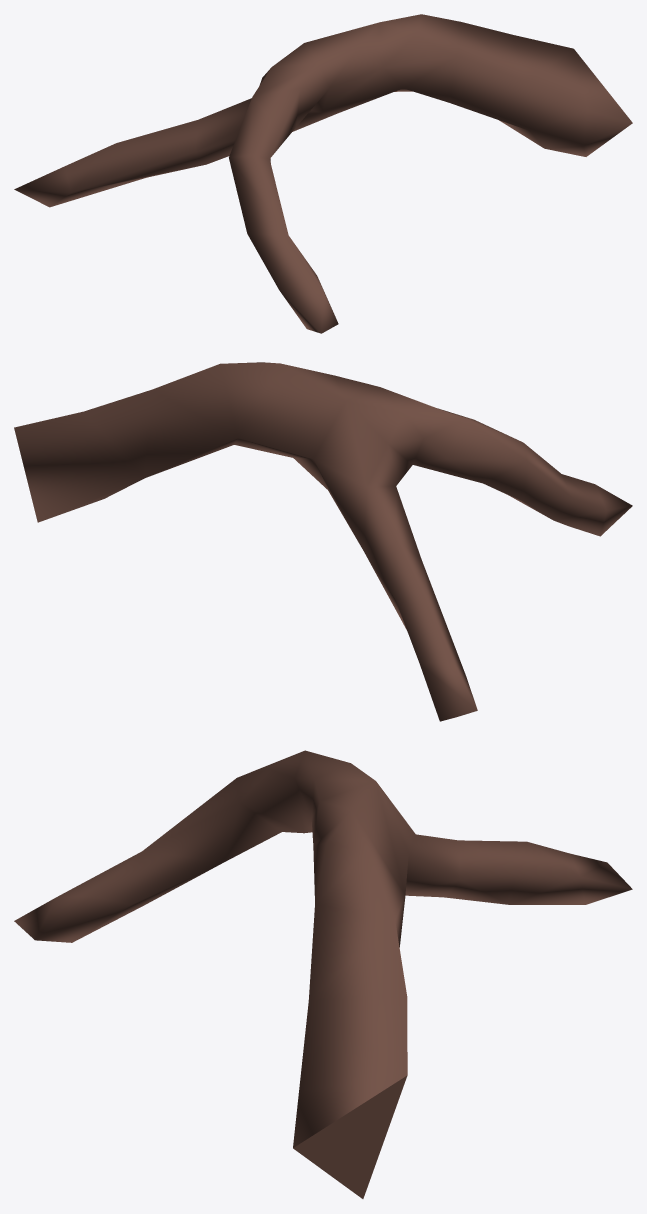
The model's file is deadwood_030.glb.
3 views of the same model, one above another, from view 1: azimuth 30°, elevation 25°; view 2: azimuth 150°, elevation 25°; view 3: azimuth 270°, elevation 25° (orthographic). The views are drawn at different scales.
Parts seen in each view (by area): view 1: deadwood_030; view 2: deadwood_030; view 3: deadwood_030.
Boxes of the visible parts, x1=… form: deadwood_030: x1=14, y1=14, x2=632, y2=333; deadwood_030: x1=14, y1=362, x2=632, y2=721; deadwood_030: x1=14, y1=750, x2=632, y2=1198.
Size of the model in its own units: 1.18 by 0.4269 by 0.9454.
1 material, 1 textured.
